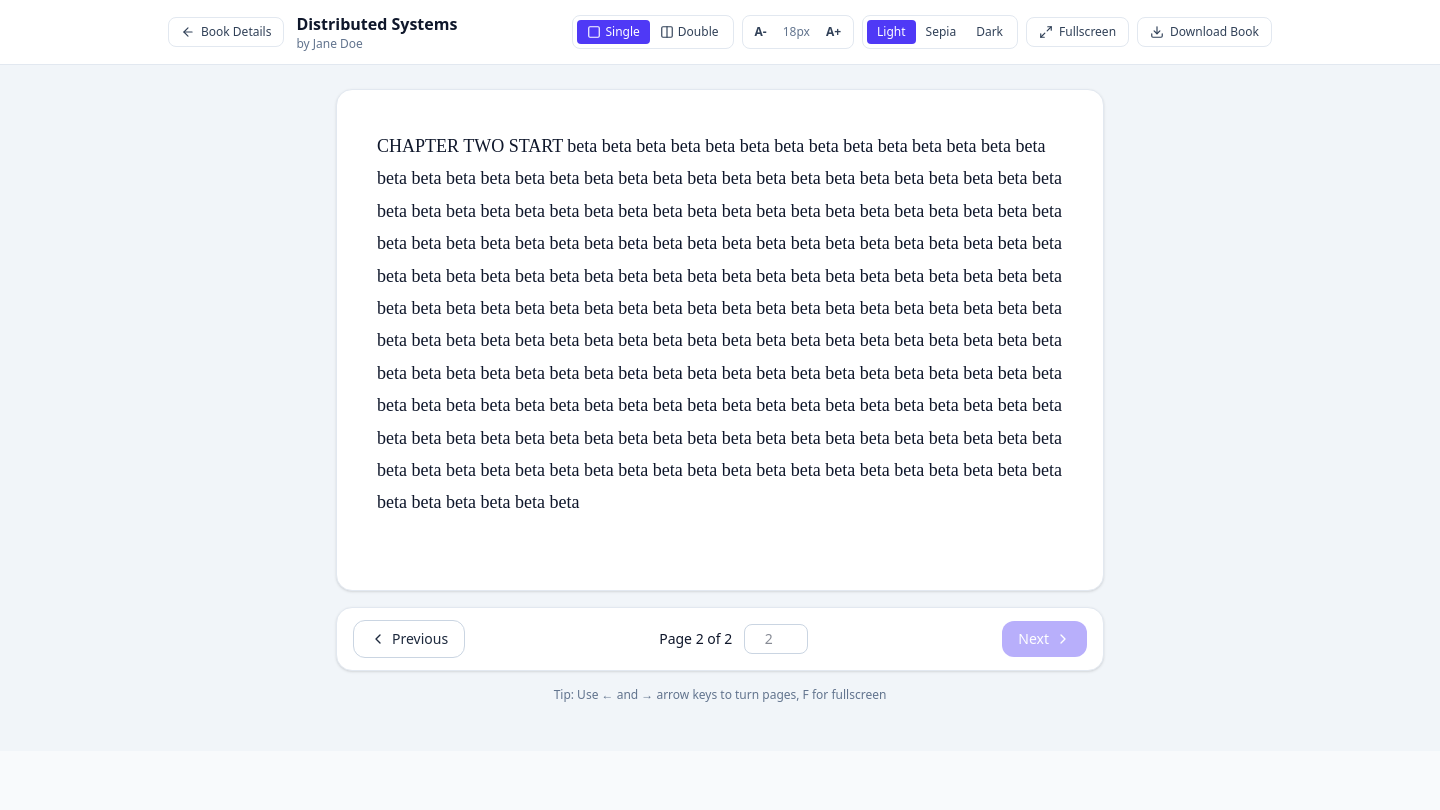
Test: BookReaderPage › renders a text book page by page with Next/Prev, keyboard arrows, and saved progress
The width and height of the screenshot is (1440, 810).
Earlier steps of the test are not shown.
Expected: the text "CHAPTER TWO START" is shown, [377,136,1067,512]
Expected: the text "Page 2 of 2" is shown, [659,629,732,649]
Press ArrowLeft
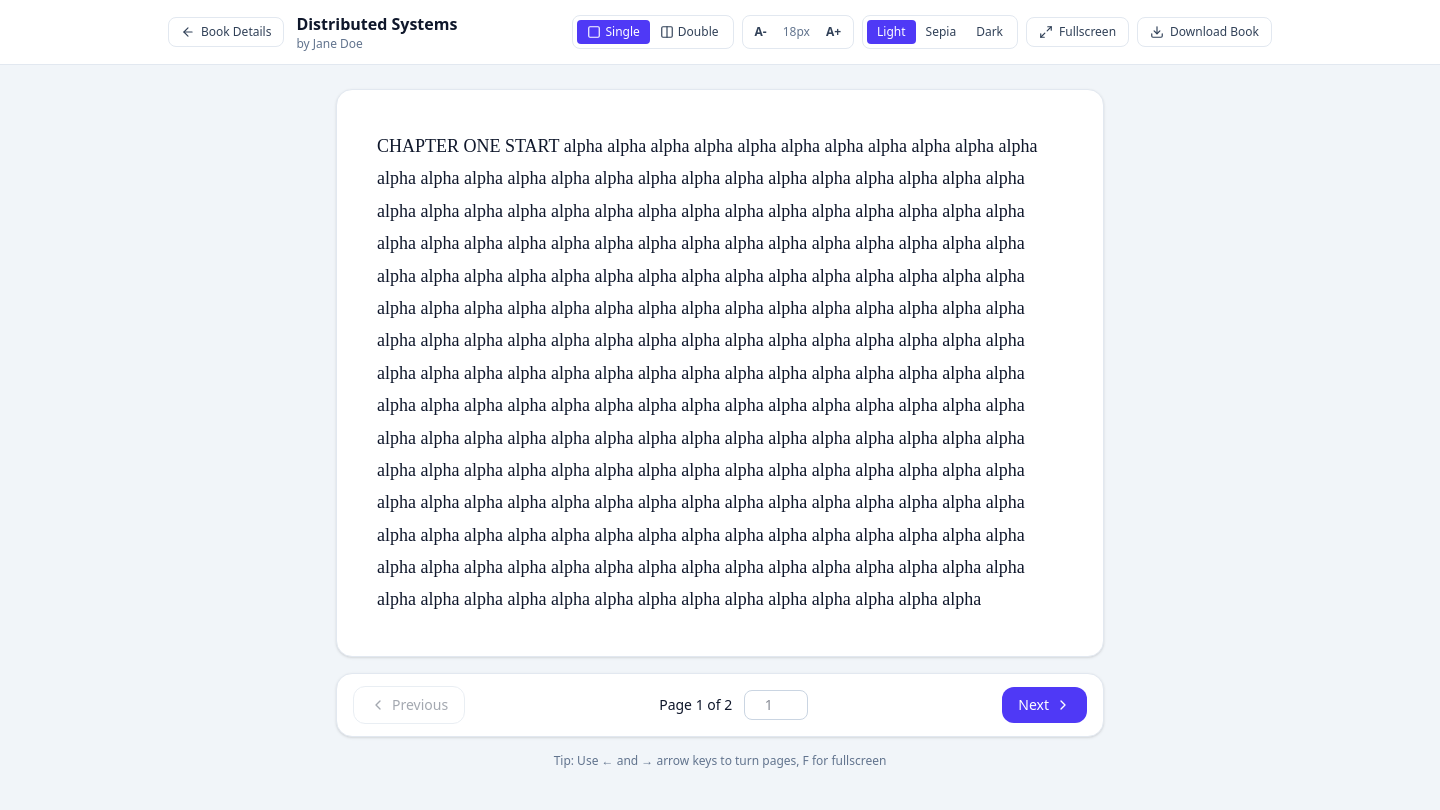
Expected: the text "CHAPTER ONE START" is shown, [377,136,1042,610]
Expected: the text "Page 1 of 2" is shown, [659,695,732,715]
// Toggle fullscreen mode via button: top header disappears, exit button appears
Click the button "Fullscreen" at coordinates (1078, 32), box [1026,17,1129,47]
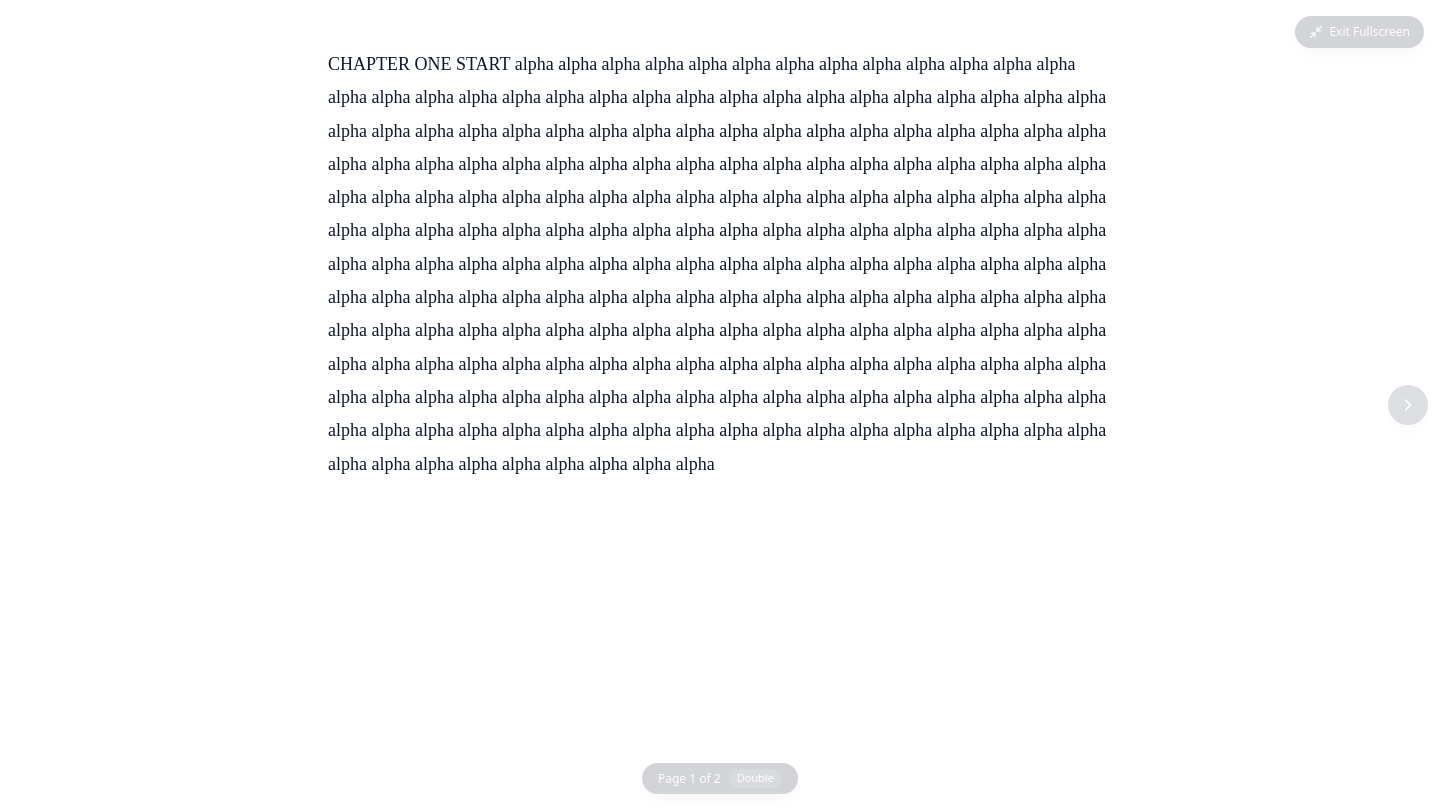
Expected: the link "Book Details" is gone
Press ArrowRight
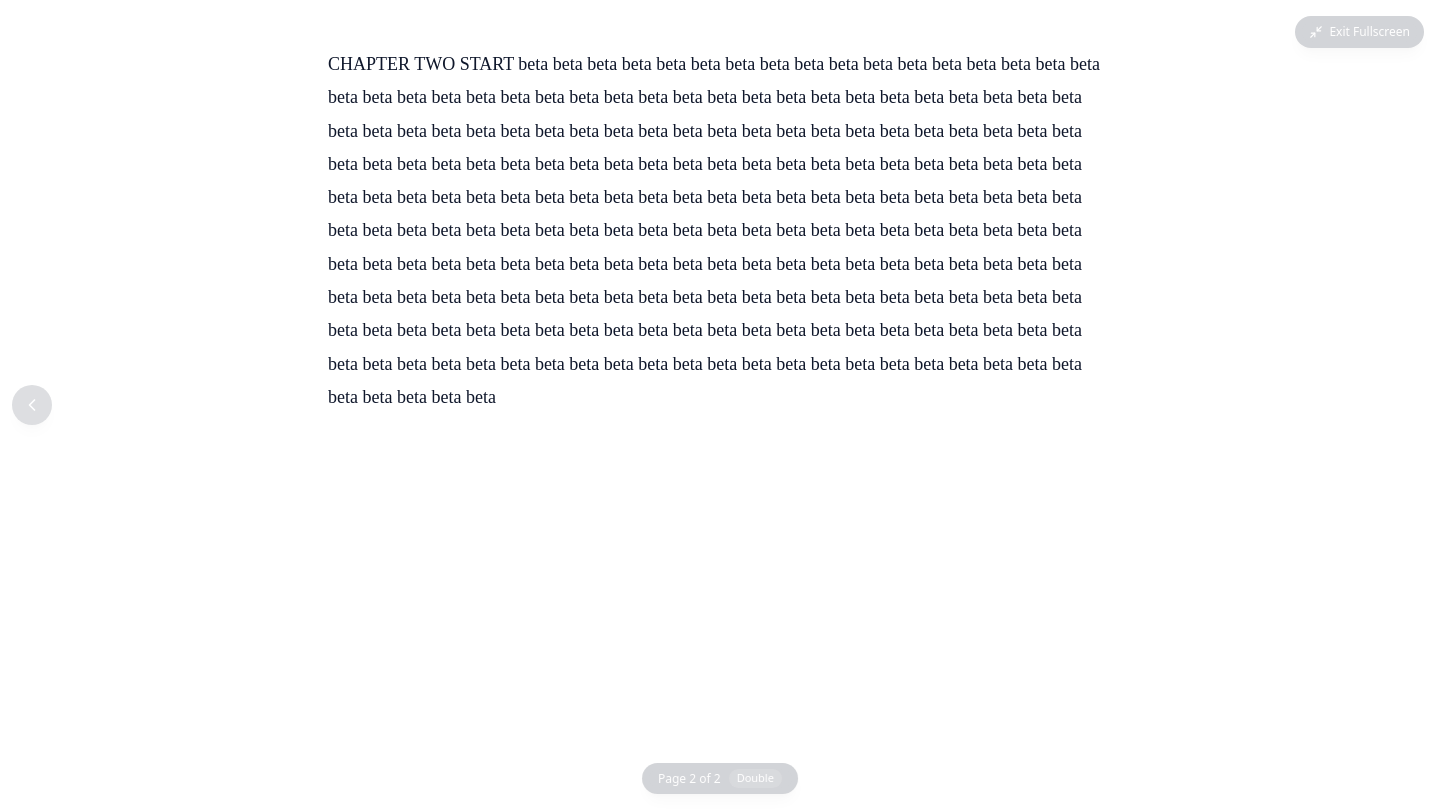
Expected: the text "CHAPTER TWO START" is shown, [328,54,1104,407]
Press ArrowLeft
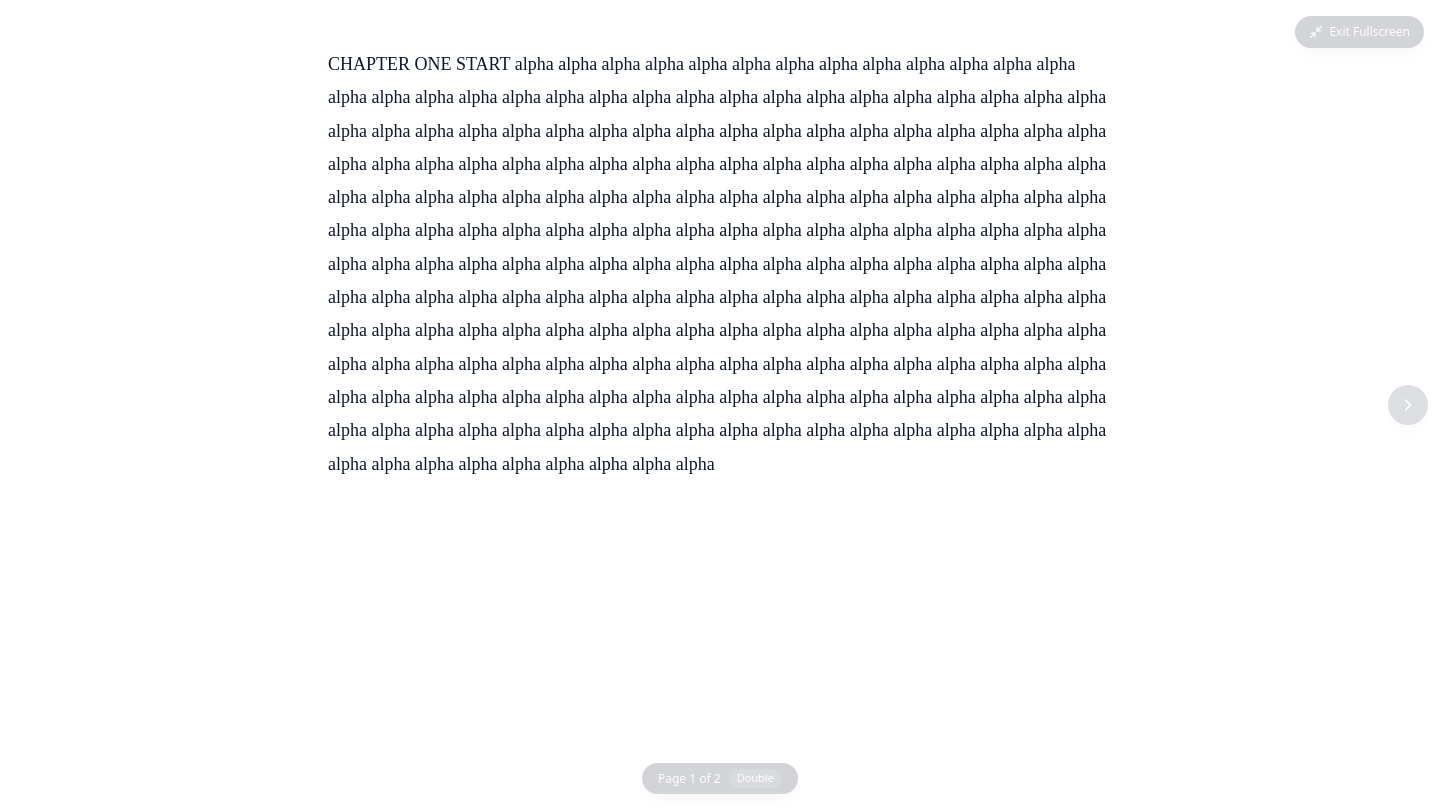
Expected: the text "CHAPTER ONE START" is shown, [328,54,1111,474]
Press Escape
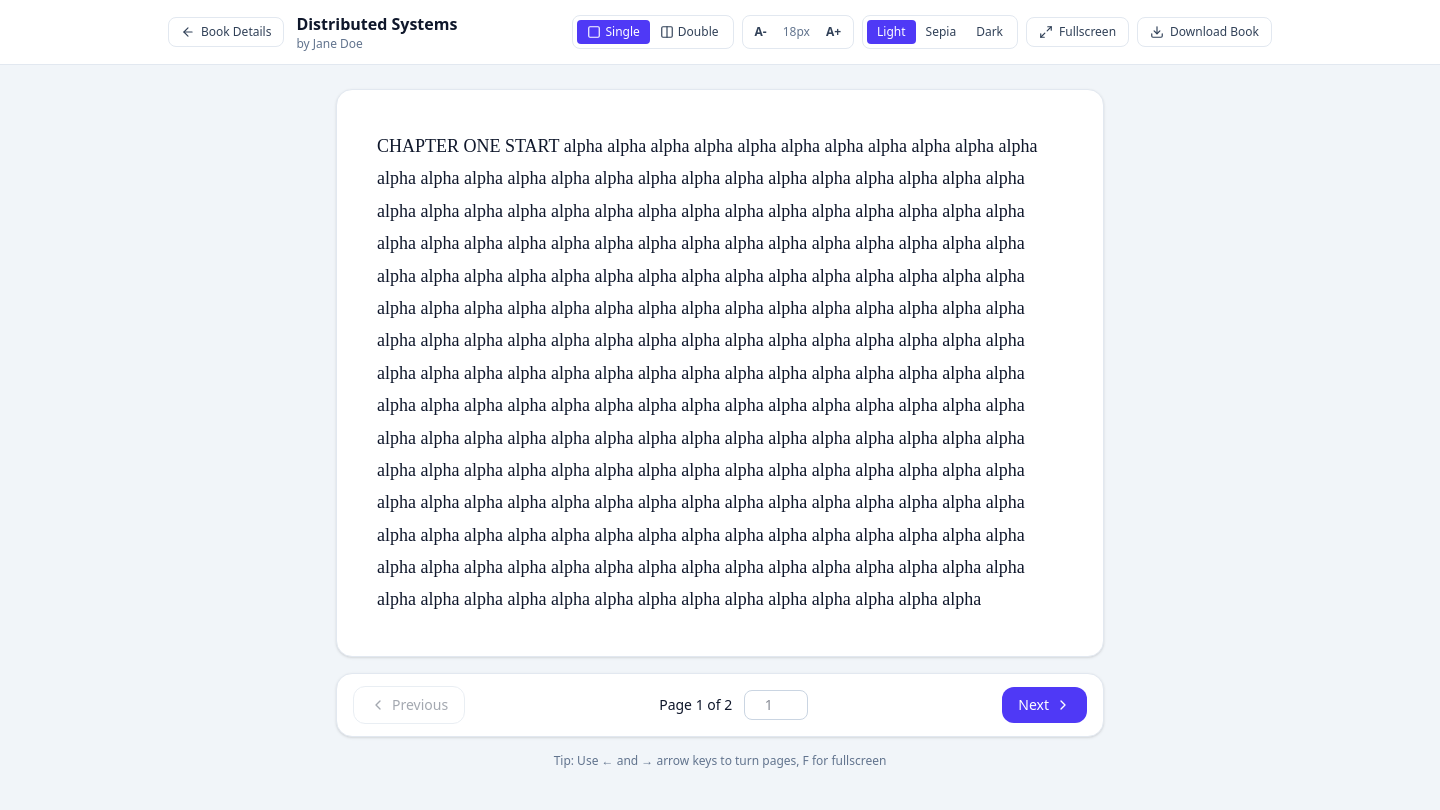
Expected: the link "Book Details" is shown, [168,17,284,47]
// Switch to Double page mode: both chapters appear side by side
Click the button "Double" at coordinates (689, 32), box [650,20,728,44]
(page scrolled)
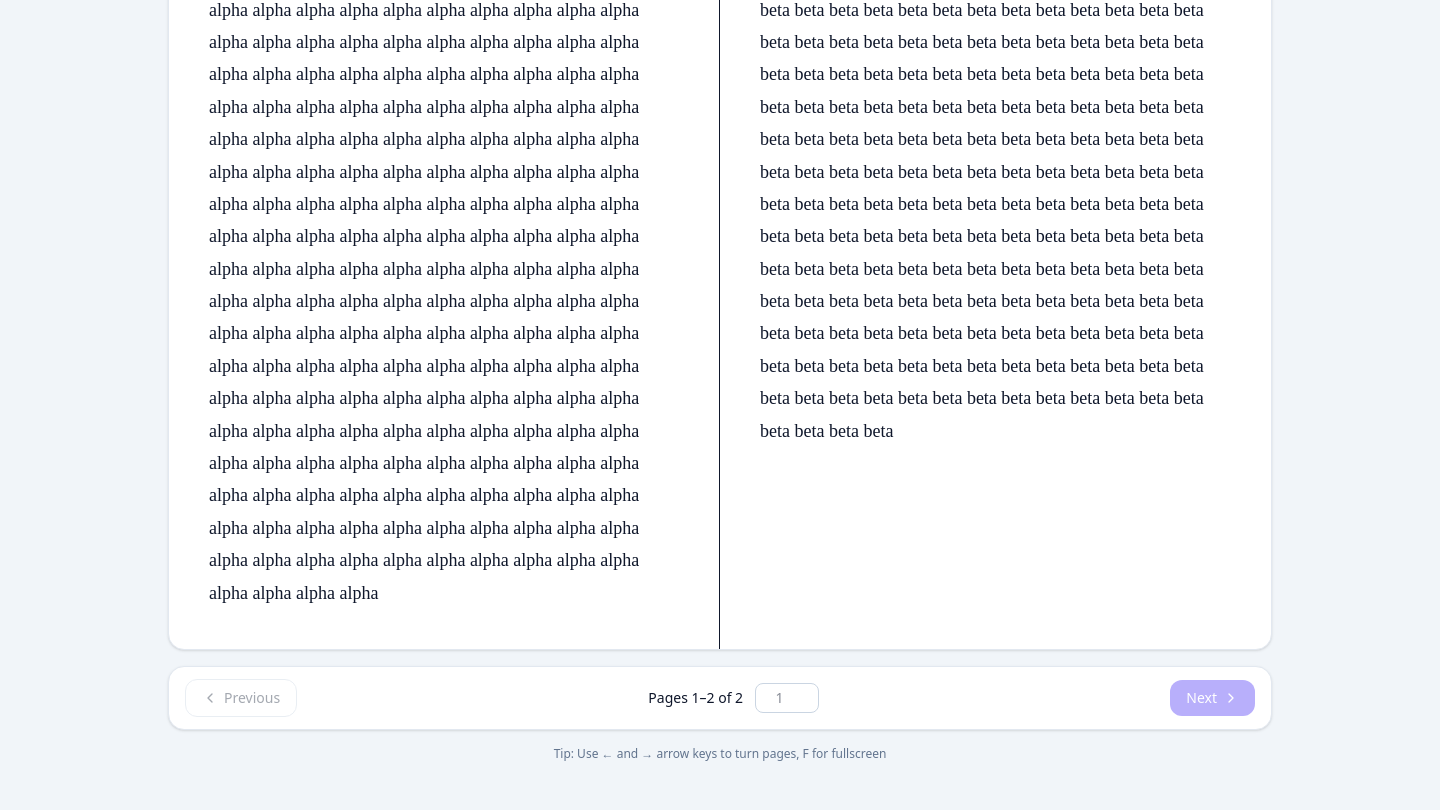
Expected: the text "Pages 1–2 of 2" is shown, [648,688,743,708]
